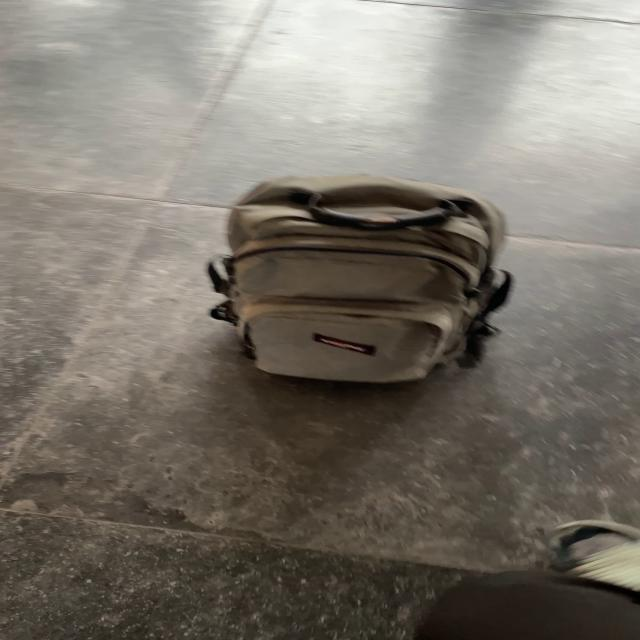backpack: (195, 174, 524, 388)
